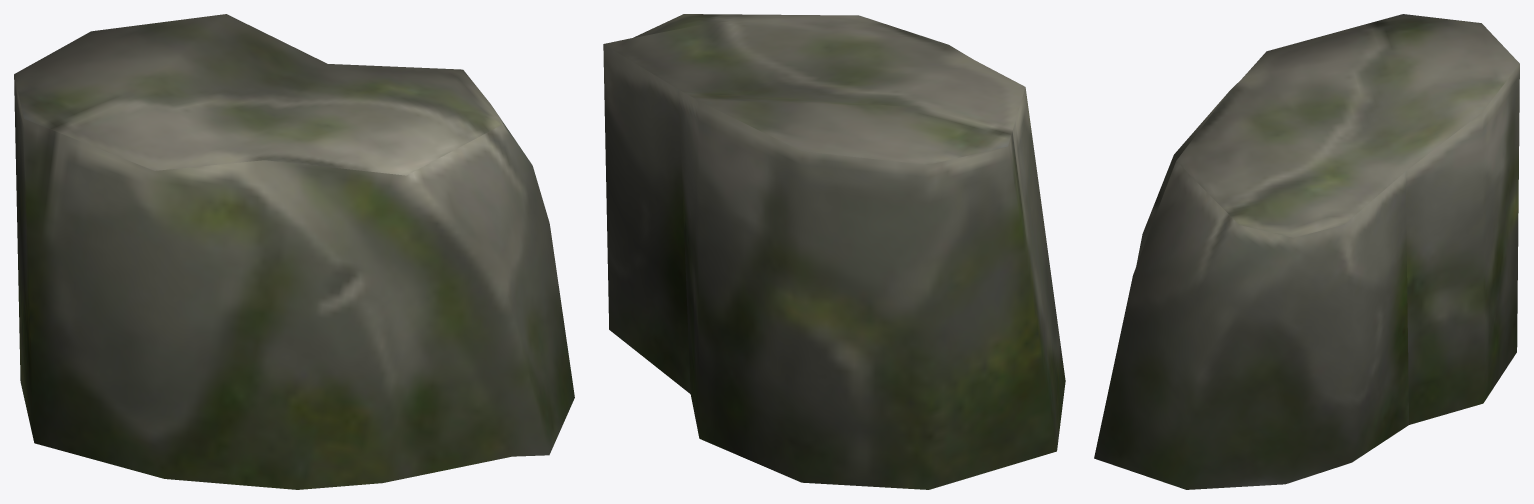
Rendered from Stage_CaoYuan_HeShi06.FBX.
3 views of the same model, side by side, from view 1: azimuth 30°, elevation 25°; view 2: azimuth 150°, elevation 25°; view 3: azimuth 270°, elevation 25° (orthographic). The views are drawn at different scales.
Visible parts, largest first — view 1: Stage_CaoYuan_HeShi06; view 2: Stage_CaoYuan_HeShi06; view 3: Stage_CaoYuan_HeShi06.
Part boxes in pixels (x1,y1,x2,y2): Stage_CaoYuan_HeShi06: (14,14,574,489); Stage_CaoYuan_HeShi06: (603,14,1065,489); Stage_CaoYuan_HeShi06: (1094,14,1519,489).
Size of the model in its own units: 167 by 111 by 146.
